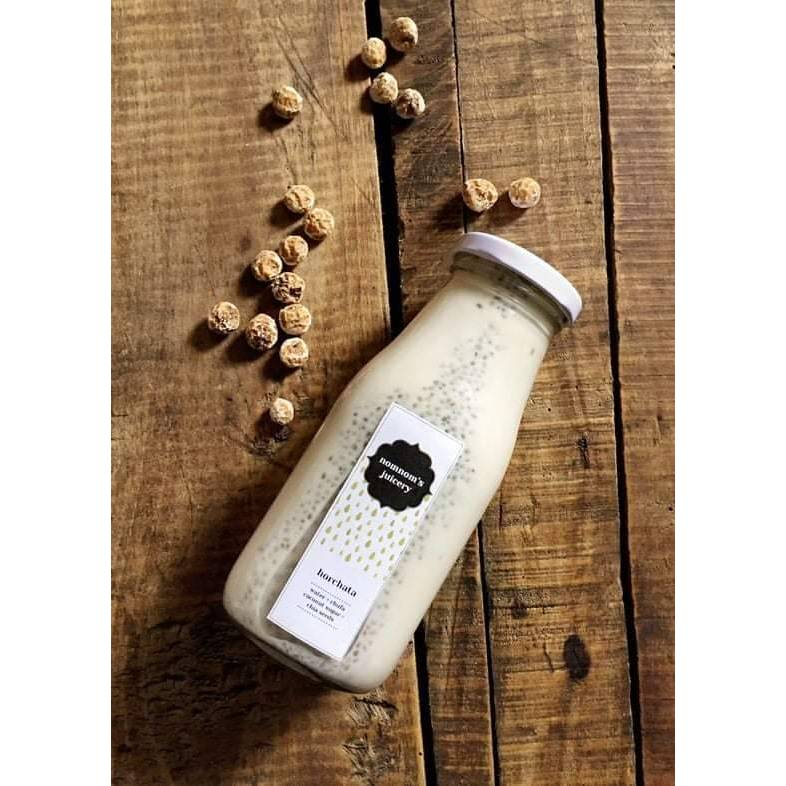glass_bottle: (212, 213, 592, 714)
